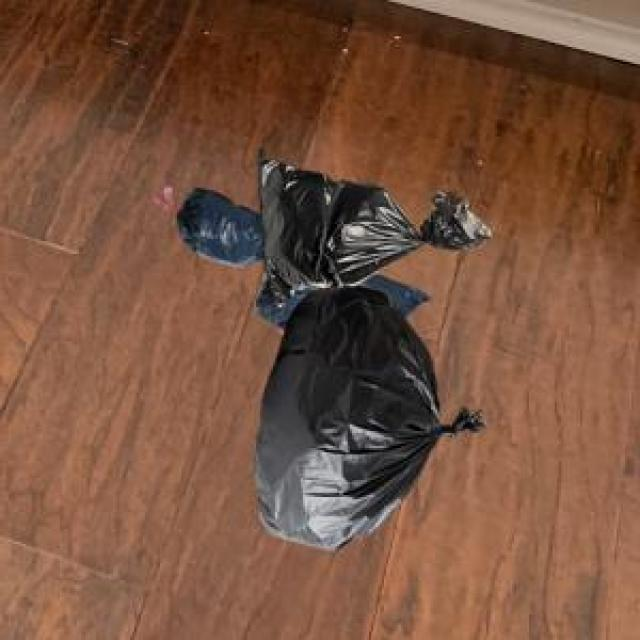Trashbag: (242, 297, 440, 559), (255, 159, 421, 291), (175, 186, 264, 266)
